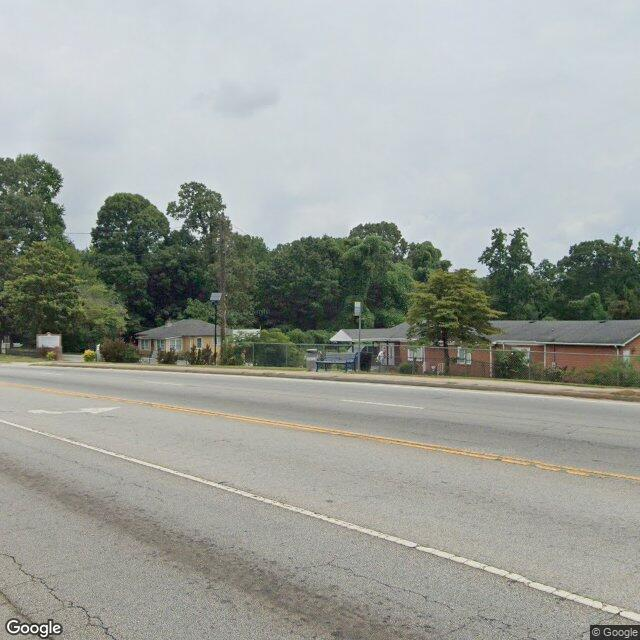seating: (316, 352, 358, 372)
trash_can: (358, 351, 372, 372), (306, 353, 316, 371)
